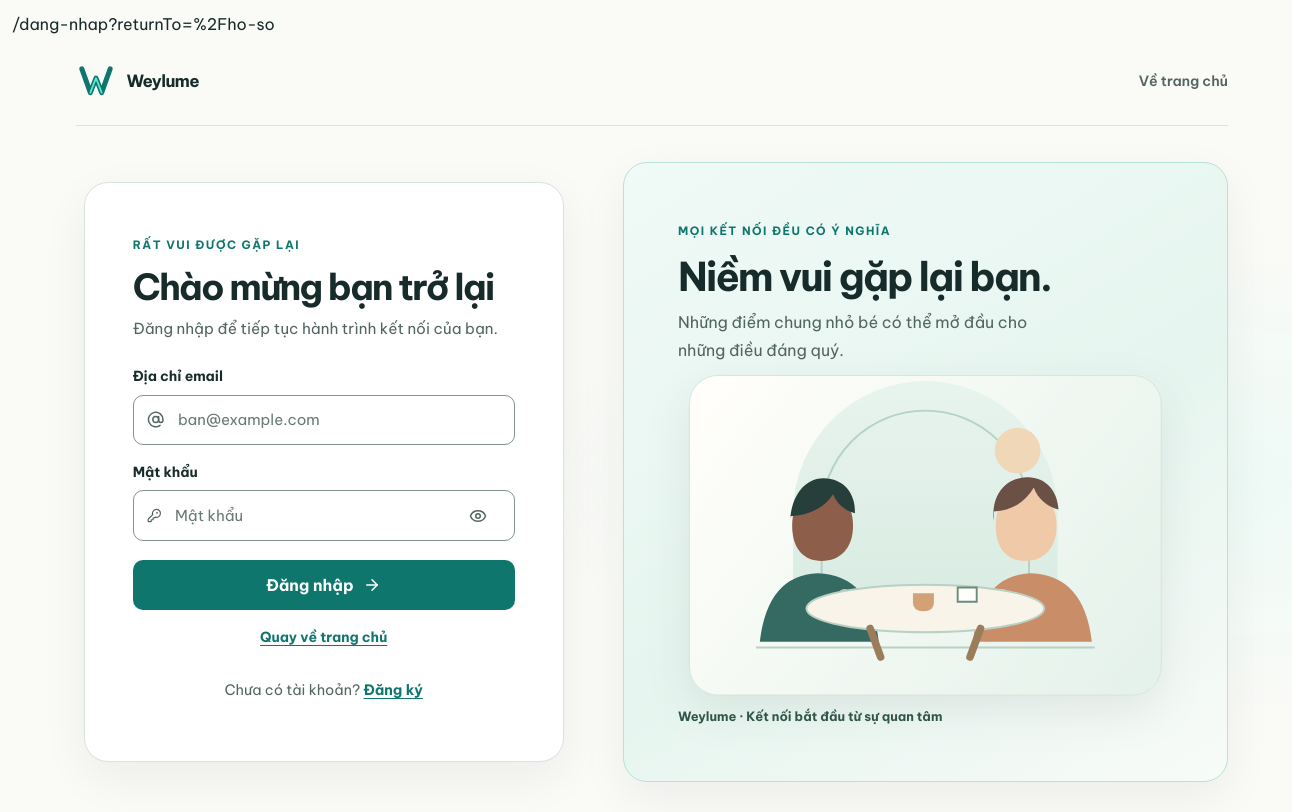
Test: application routes › returns to the protected local destination after a successful login
The image size is (1292, 812).
Expected: the heading "Chào mừng bạn trở lại" is shown, [133,267,515,309]
Type "an@example.test" into the field labelled "Địa chỉ email". click: coordinates (338, 420)
box: [176,397,500,442]
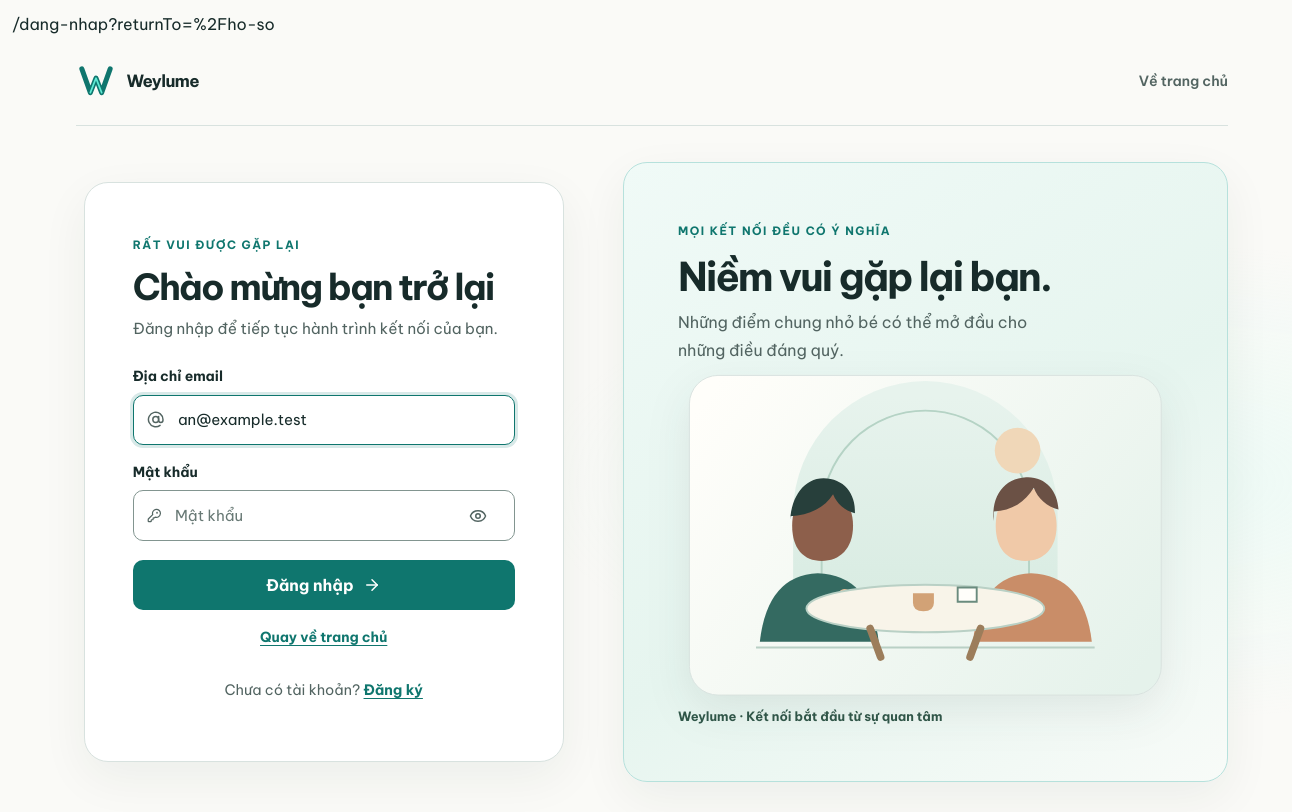
Type "a sufficiently long password" into the password field labelled "Mật khẩu". click: coordinates (309, 516)
box: [173,493,445,538]
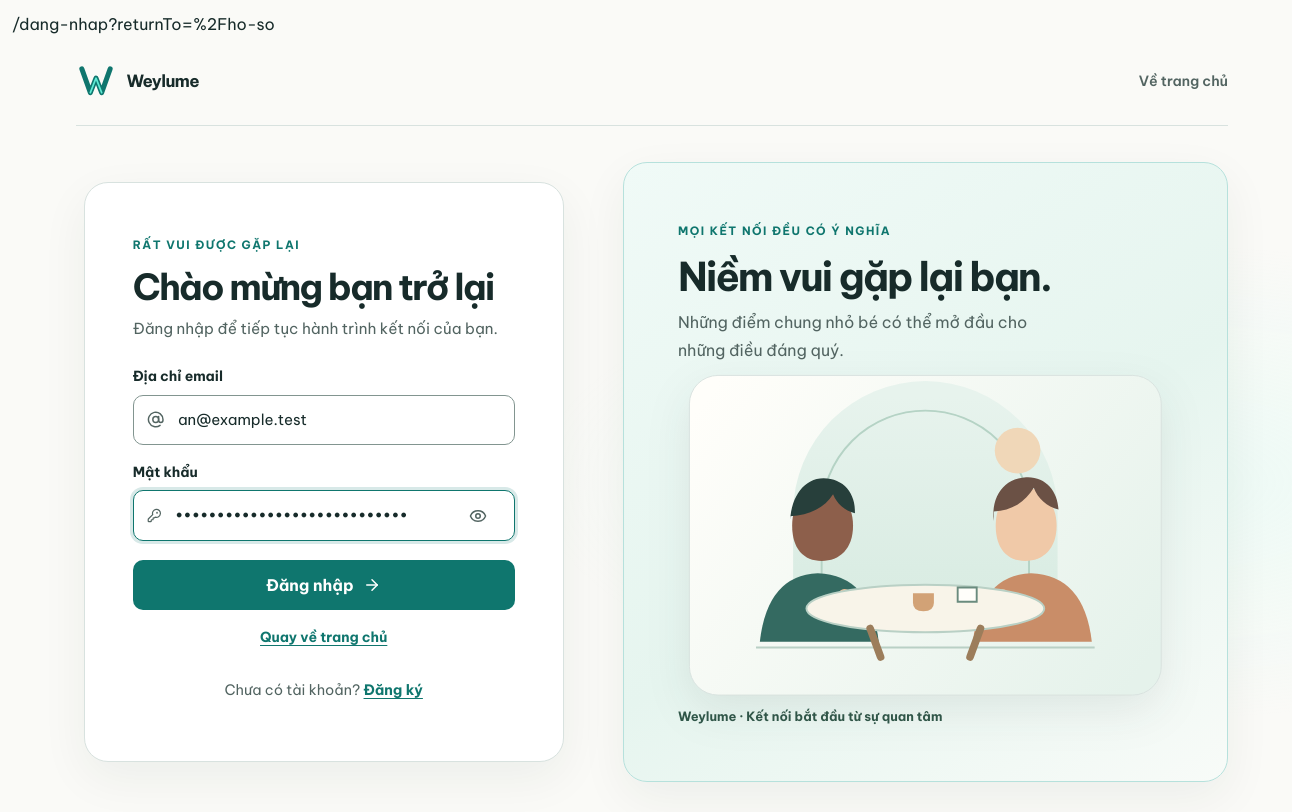
Click the button "Đăng nhập". click: coordinates (324, 585)
box: [133,560,515,610]
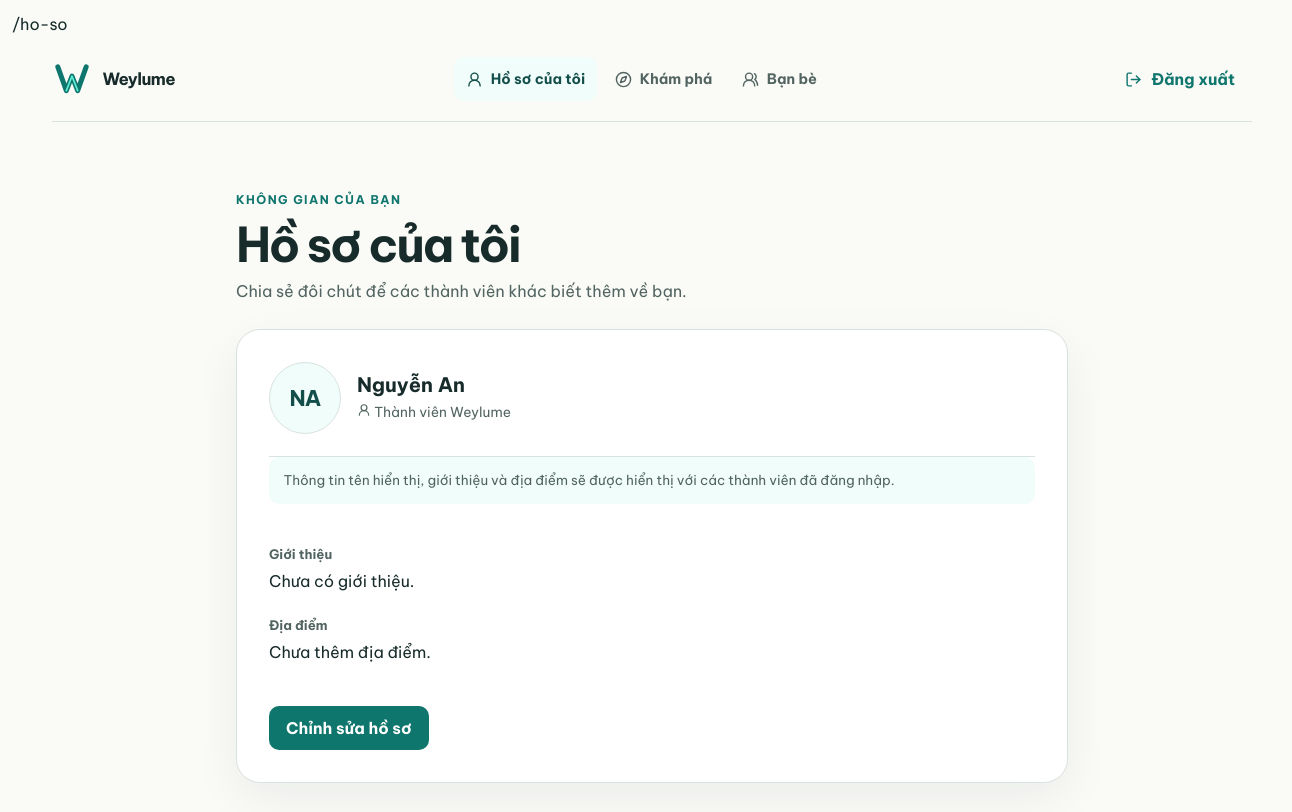
Now the heading "Nguyễn An" is shown, box [357,372,465,397]
Now the text with test id "current-location" reads "/ho-so", box [12,14,68,34]
